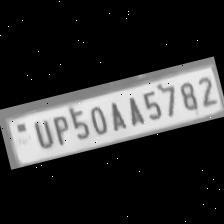0: (84, 100, 110, 136)
2: (190, 70, 218, 108)
5: (64, 104, 91, 142), (136, 86, 163, 124)
7: (154, 80, 181, 118)
8: (173, 76, 199, 113)
A: (104, 95, 128, 131), (120, 91, 144, 127)
P: (47, 110, 72, 146)
U: (27, 115, 55, 151)
